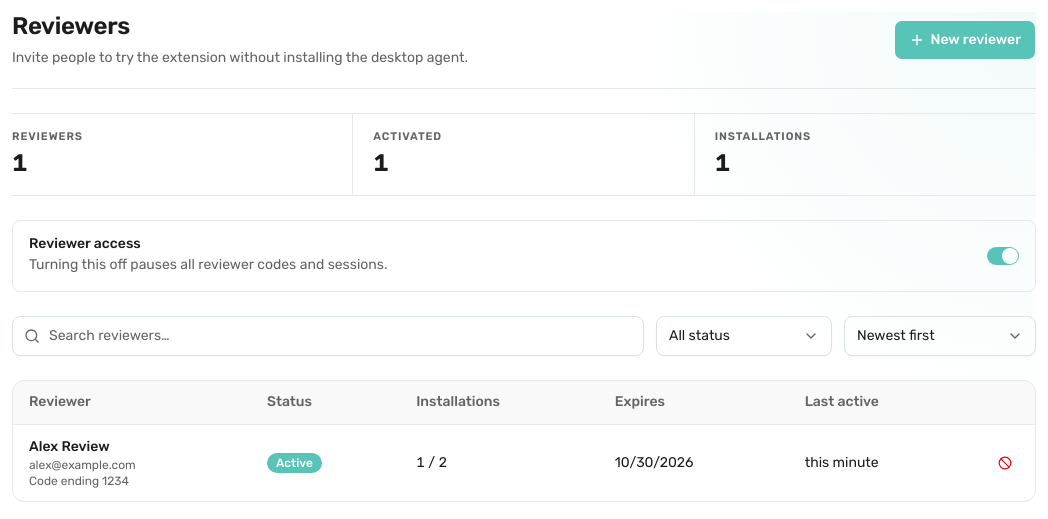
Test case: pauses reviewer access and refreshes the displayed status
Check: the text "Alex Review" is shown, box [29,438,110,455]
Click the switch named "Reviewer access" at (1003, 256), box [987,246,1019,265]
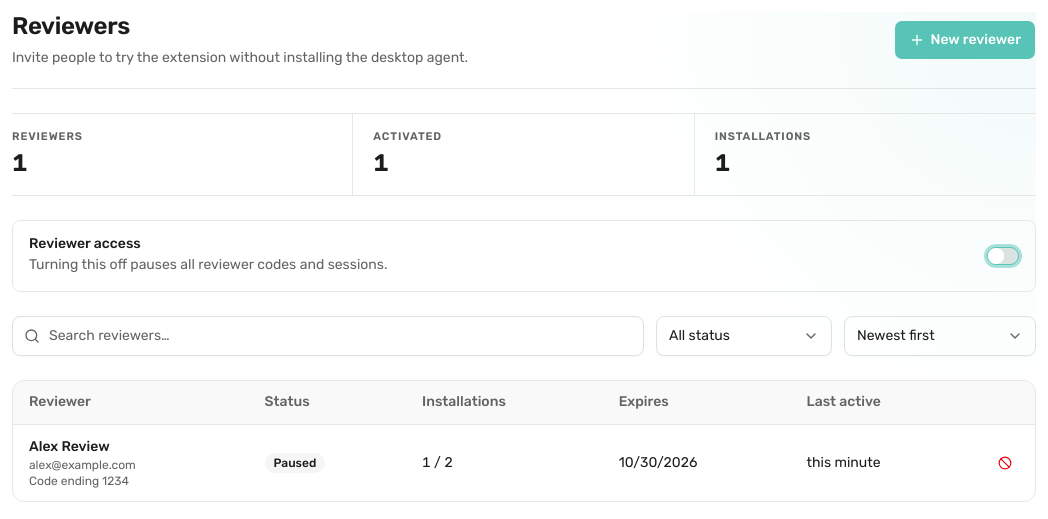
Check: the button "Paused" is shown, box [264,453,325,473]
